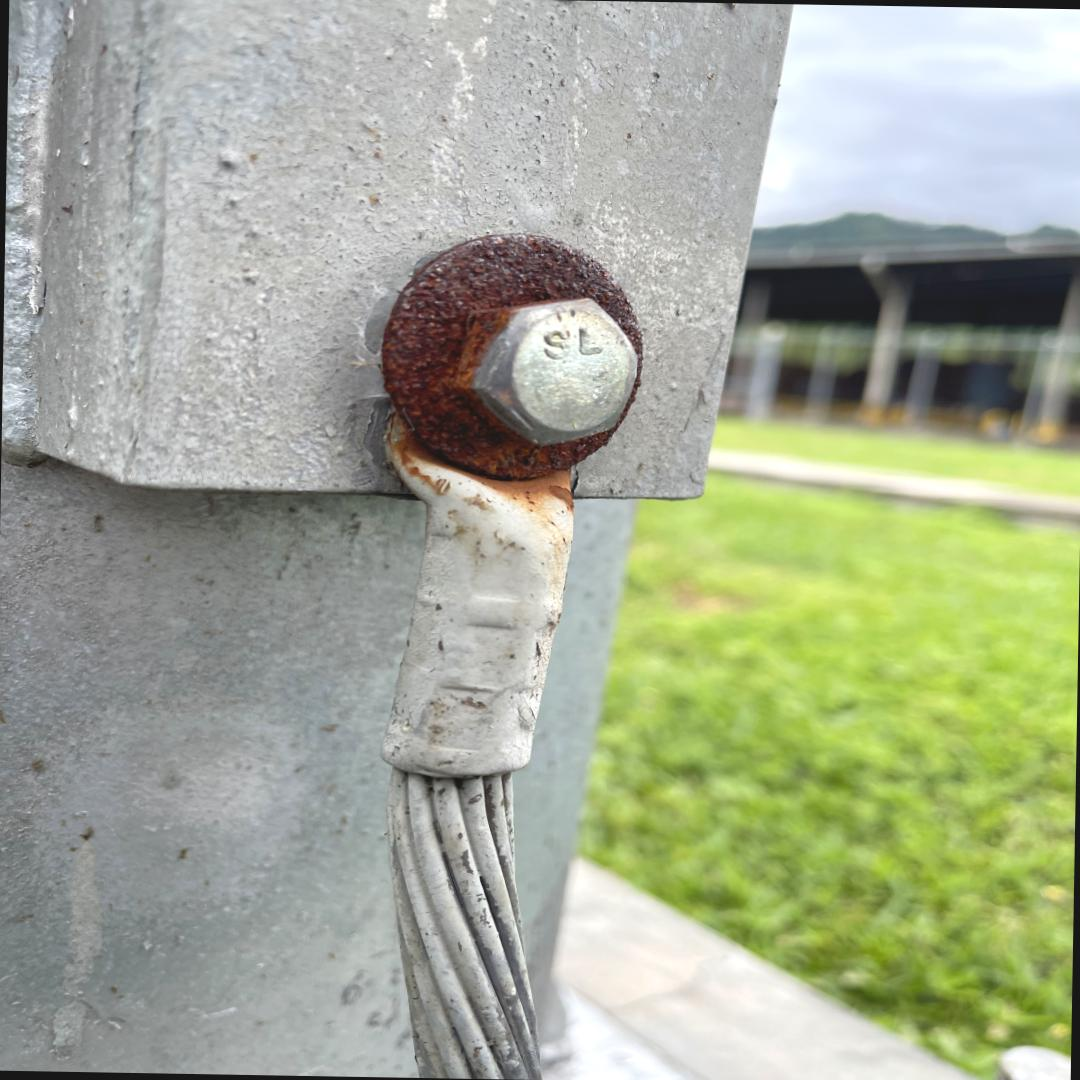Metal corroido: (382, 234, 643, 578)
Tornillo sin corrosion: (475, 297, 636, 444)
